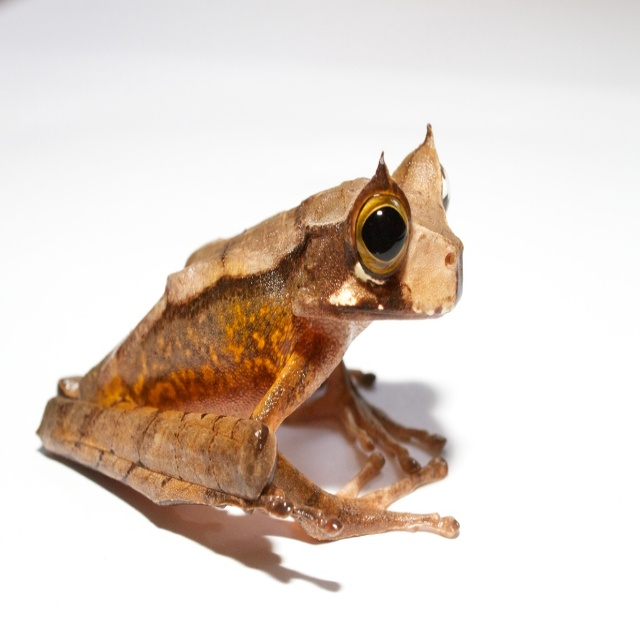Frog: (32, 122, 463, 537)
